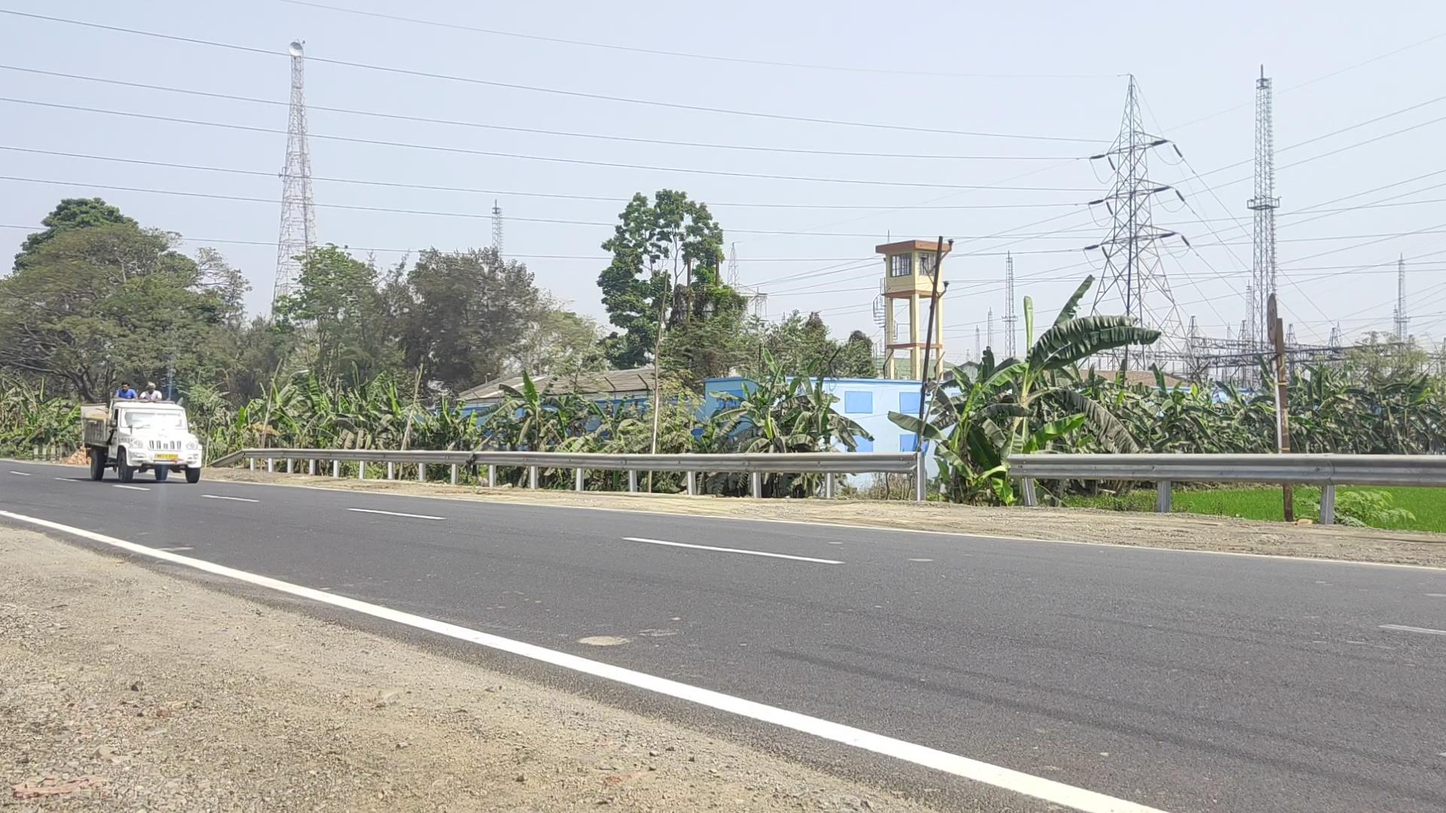van: (82, 382, 203, 486)
